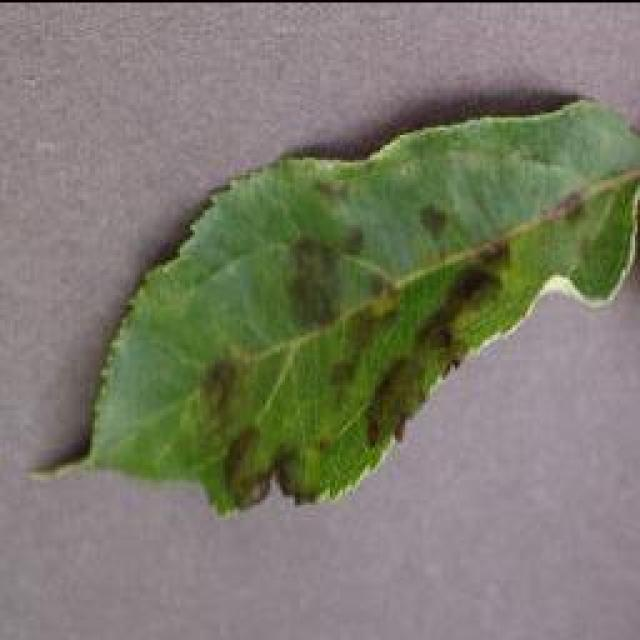apple scab disease: (30, 92, 638, 518)
